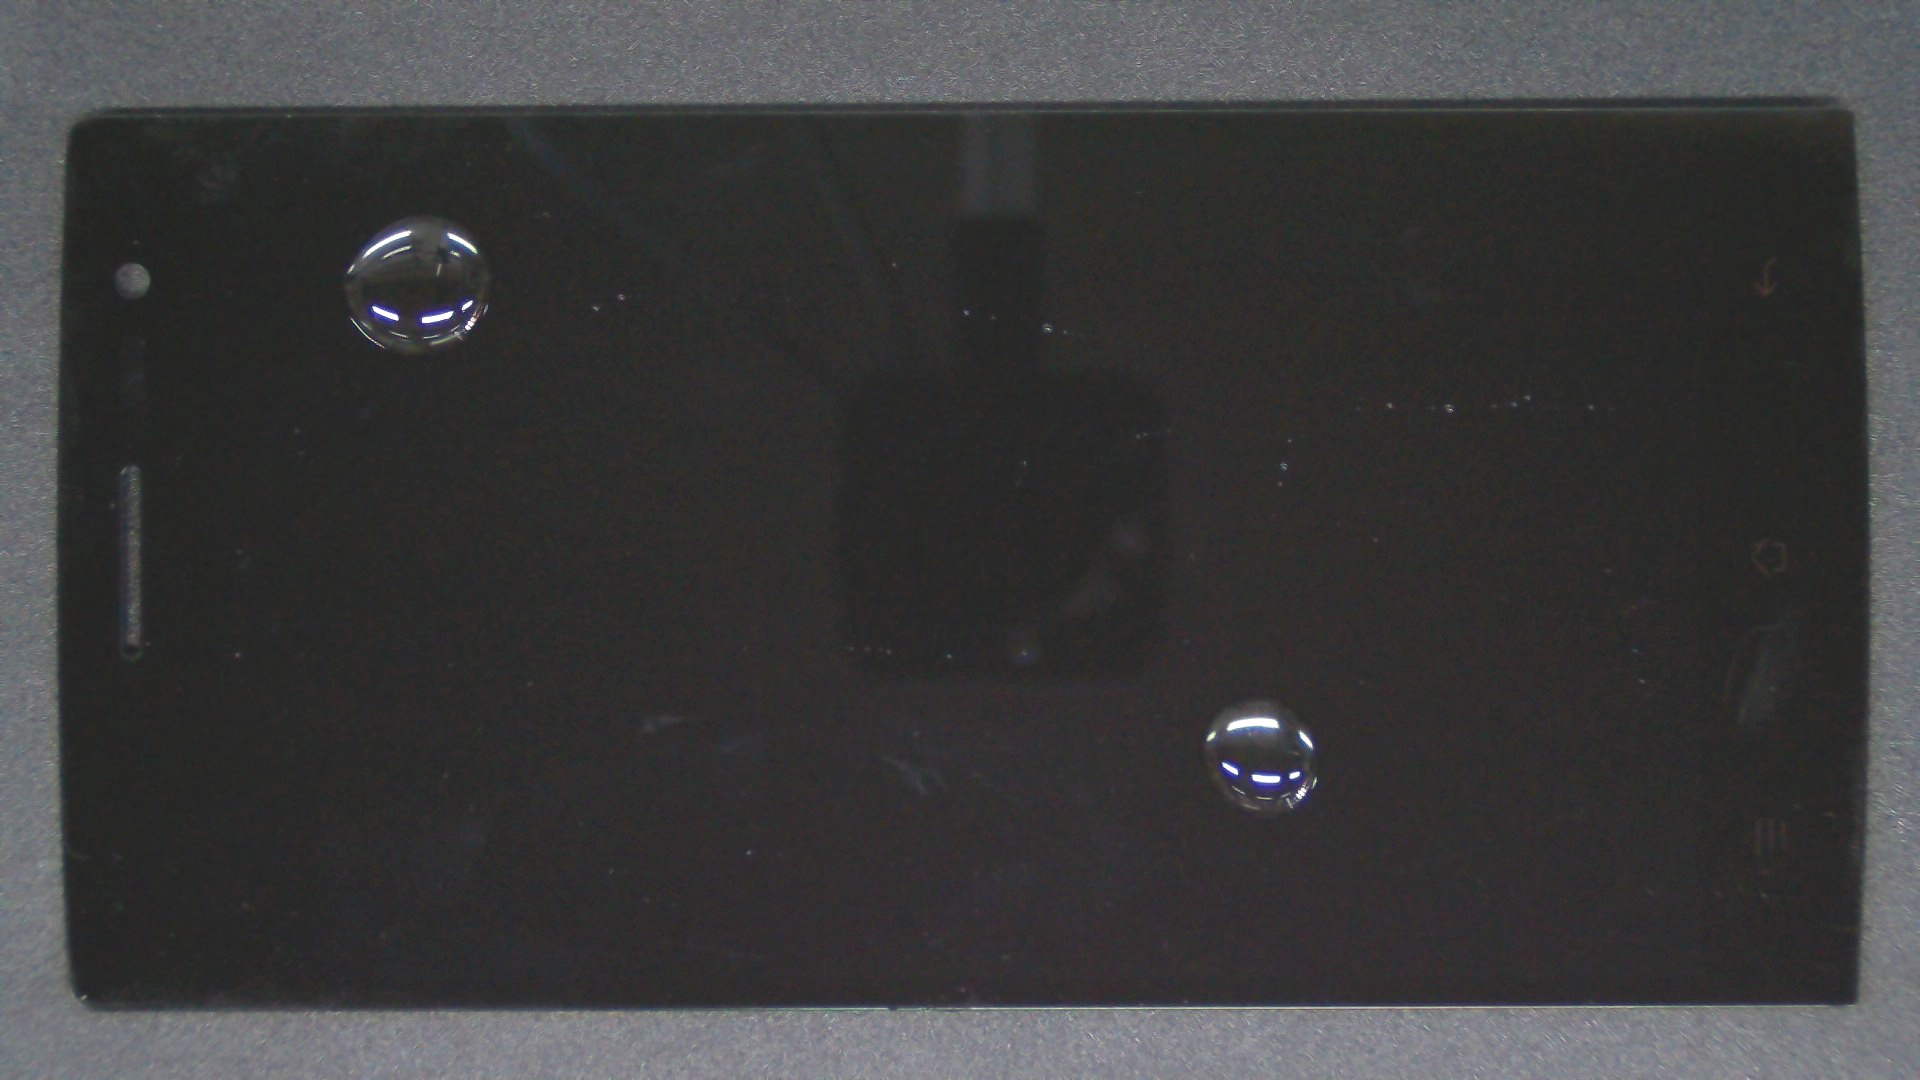oil: (633, 349, 1895, 1052), (207, 107, 621, 323)
